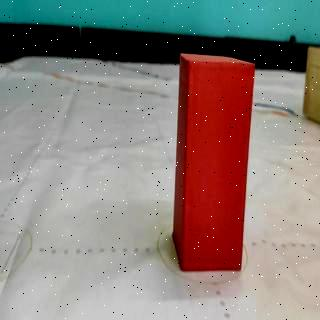redbox: (173, 52, 254, 272)
